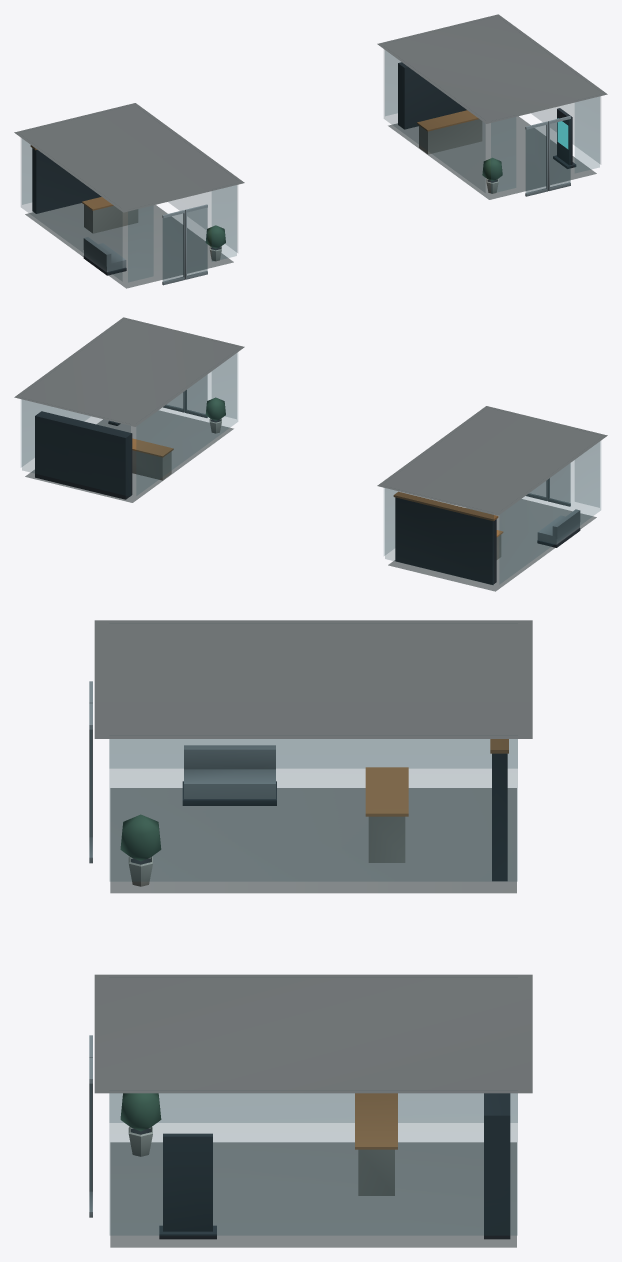
File: lobby-integrations.lod2.glb
3 renders of one model, top to bottom at view 1: azimuth 30°, elevation 25°; view 2: azimuth 150°, elevation 25°; view 3: azimuth 270°, elevation 25°, orthographic. The views are drawn at different scales.
Parts seen in each view (by area): view 1: structure, door_1_l, door_0_l, door_0_r, door_1_r, foliage; view 2: structure, door_0_l, door_1_l, foliage; view 3: structure, foliage.
Boxes of the visible parts, box(x1,y1,x2,y2) form: structure: box(14, 14, 607, 288); door_1_l: box(525, 121, 548, 196); door_0_l: box(162, 210, 185, 285); door_0_r: box(185, 204, 207, 279); door_1_r: box(548, 116, 570, 190); foliage: box(205, 157, 502, 248); structure: box(14, 317, 607, 591); door_0_l: box(548, 463, 570, 506); door_1_l: box(185, 375, 207, 417); foliage: box(205, 397, 225, 420); structure: box(94, 620, 532, 1247); foliage: box(120, 814, 161, 1131).
Bounding box in the file's own units: 21.36 × 3.42 × 8.47.
